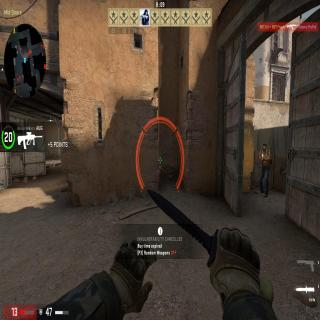T-Body: (258, 143, 272, 198)
T-Head: (262, 144, 266, 152)
